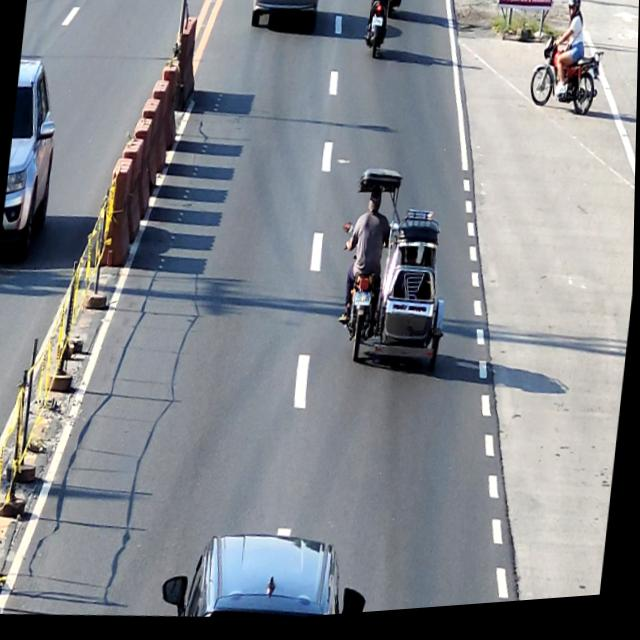Car: (163, 522, 376, 630), (0, 56, 63, 262), (249, 0, 321, 38)
License-Plate: (355, 296, 372, 311), (372, 22, 384, 32)
Motorcycle: (527, 39, 608, 131), (362, 0, 394, 64)
Tricycle: (329, 165, 464, 382)
